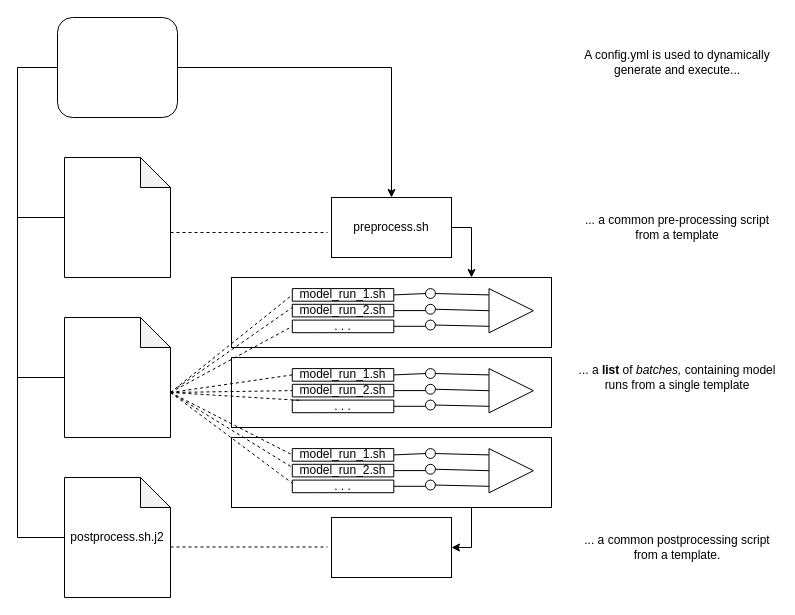
This 795x615 diagram has some shape labels left out. The box of each missing label's shape, as (x1, y1, x2, y2) in pixels:
config.yaml: (56, 16, 178, 118)
model_run_n.sh.j2: (64, 316, 170, 438)
postprocess.sh: (330, 516, 452, 578)
preprocess.sh.j2: (64, 156, 170, 278)
